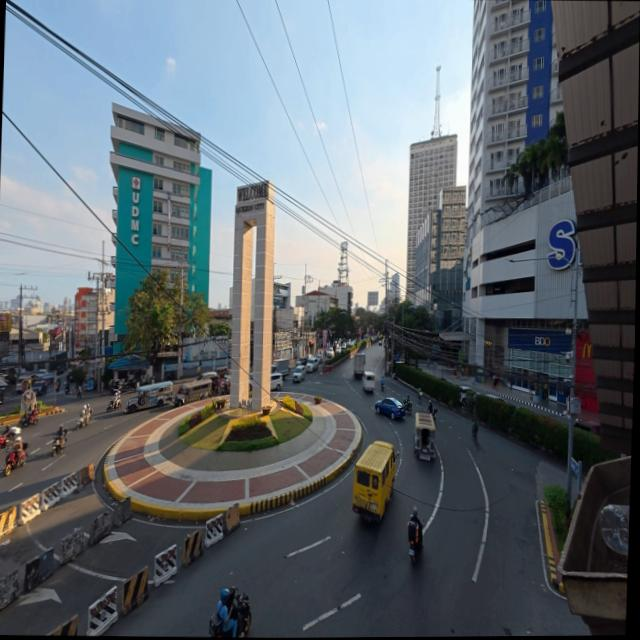Jeepneys: (126, 382, 172, 413), (414, 412, 436, 460), (174, 378, 211, 406)
car: (375, 398, 405, 419), (575, 421, 601, 435), (292, 364, 305, 382), (270, 373, 282, 391), (306, 357, 320, 372), (15, 378, 29, 392), (32, 382, 47, 395), (196, 372, 217, 381), (485, 393, 506, 402), (35, 370, 48, 379), (316, 355, 325, 367), (297, 357, 308, 366), (327, 348, 335, 358), (336, 347, 342, 354)
motorcycle: (231, 588, 251, 635), (5, 442, 27, 476), (409, 521, 423, 564), (52, 430, 67, 457), (77, 408, 93, 428), (105, 393, 121, 412), (19, 412, 38, 427), (0, 434, 12, 450), (426, 404, 438, 418), (404, 398, 412, 413), (64, 381, 70, 394), (417, 390, 422, 403), (381, 382, 384, 392)
trucks: (274, 360, 290, 379), (354, 353, 366, 376)
vans: (353, 442, 395, 521), (362, 371, 374, 392)
